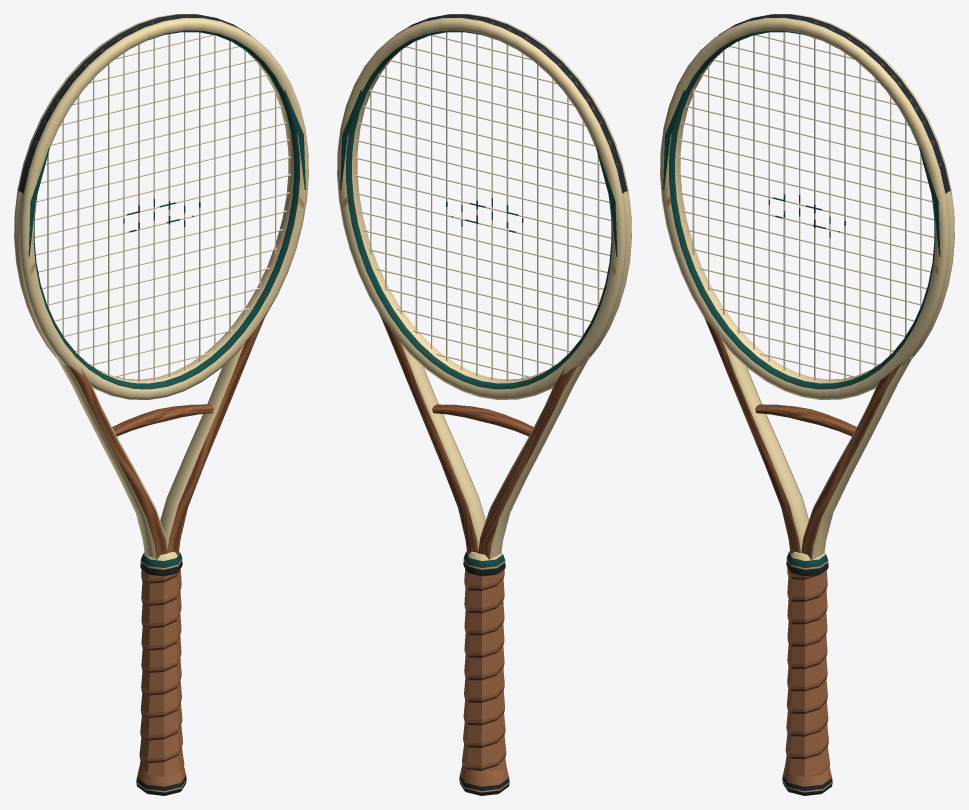
The model's file is racket_classic.glb.
3 renders of one model, left to right at view 1: azimuth 30°, elevation 25°; view 2: azimuth 150°, elevation 25°; view 3: azimuth 330°, elevation 25°, orthographic.
Parts seen in each view (by area): view 1: Lagoon Classic; view 2: Lagoon Classic; view 3: Lagoon Classic.
Boxes of the visible parts, x1=… form: Lagoon Classic: x1=14, y1=14, x2=308, y2=795; Lagoon Classic: x1=337, y1=14, x2=631, y2=795; Lagoon Classic: x1=660, y1=14, x2=954, y2=795.
Bounding box in the file's own units: 0.269 × 0.6841 × 0.0379.
Materials: 8 (1 with a texture image).
